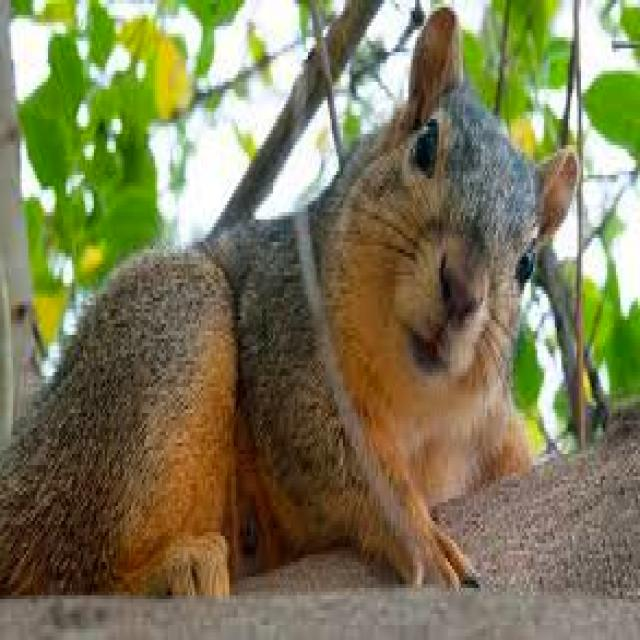squirrel: (2, 7, 579, 592)
